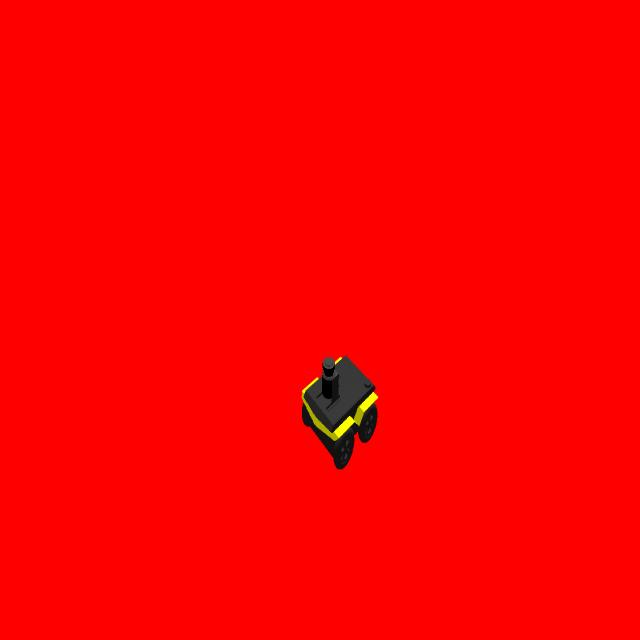jackal: (299, 340, 381, 476)
